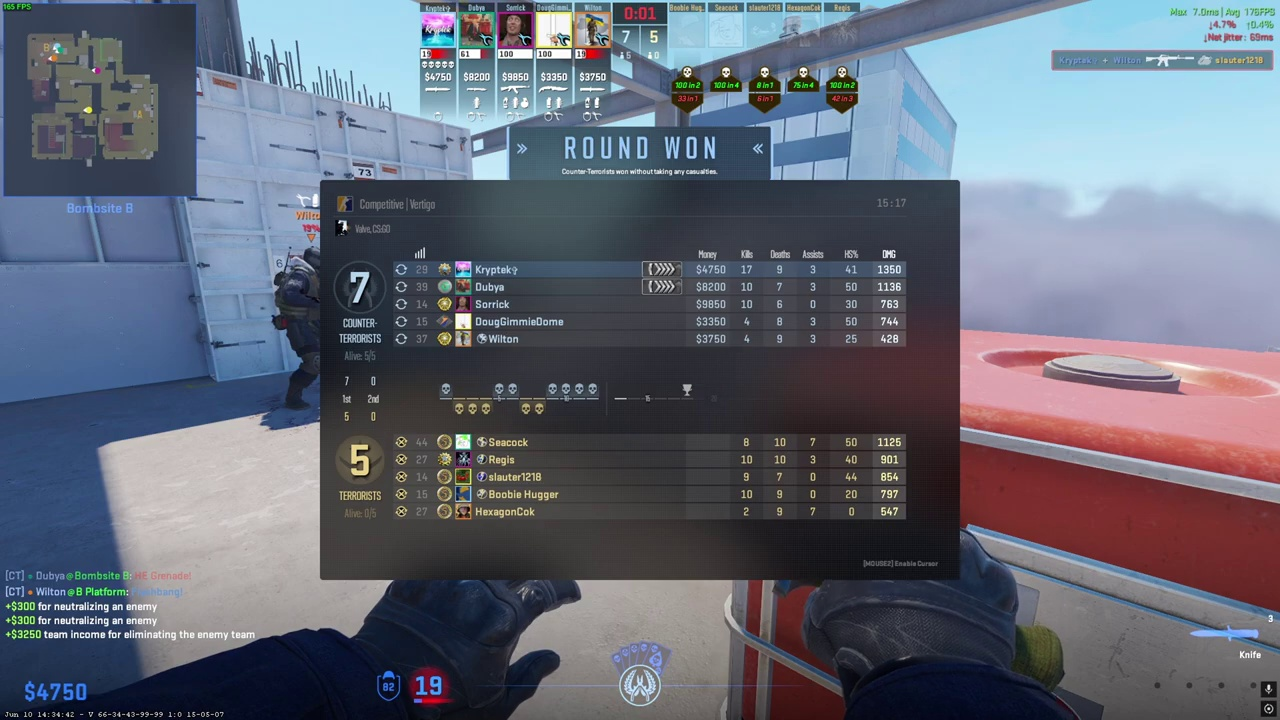CT: (274, 246, 320, 410)
